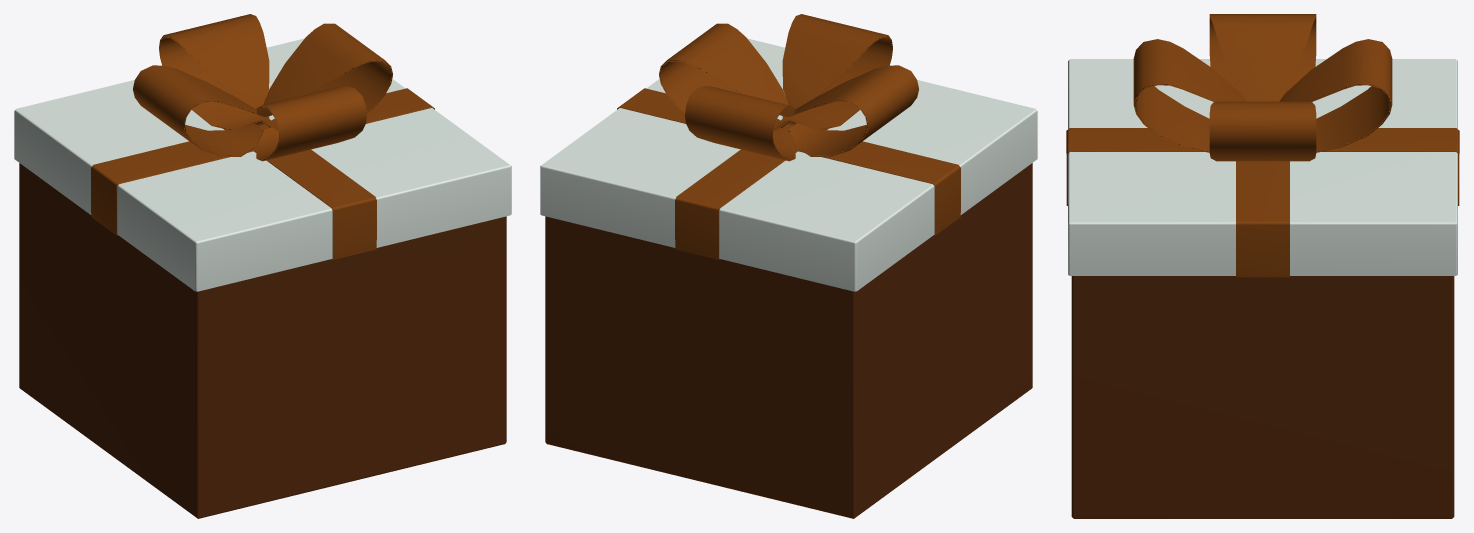
The model's file is gift_maroon.glb.
3 renders of one model, left to right at view 1: azimuth 30°, elevation 25°; view 2: azimuth 150°, elevation 25°; view 3: azimuth 270°, elevation 25°, orthographic. The views are drawn at different scales.
Parts seen in each view (by area): view 1: SK_GiftBox.008, SK_GiftBox.007, SK_GiftBox.006; view 2: SK_GiftBox.008, SK_GiftBox.007, SK_GiftBox.006; view 3: SK_GiftBox.008, SK_GiftBox.007, SK_GiftBox.006.
Boxes of the visible parts, x1,y1,x2,y2 form: SK_GiftBox.008: (19,163,506,518); SK_GiftBox.007: (14,38,511,291); SK_GiftBox.006: (91,14,434,259); SK_GiftBox.008: (545,163,1032,518); SK_GiftBox.007: (540,38,1037,291); SK_GiftBox.006: (617,14,960,259); SK_GiftBox.008: (1071,276,1454,518); SK_GiftBox.007: (1068,59,1457,275); SK_GiftBox.006: (1066,14,1459,277).
Bounding box in the file's own units: 1.88 × 2 × 1.88.
